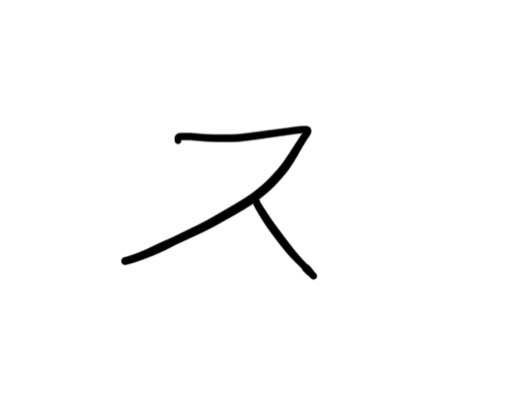su: (112, 115, 328, 283)
